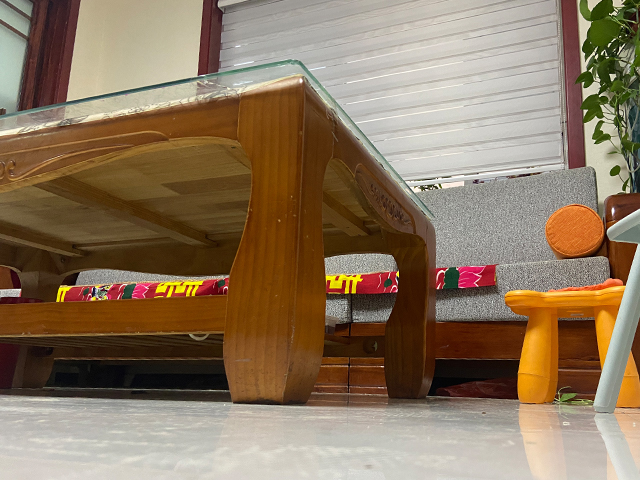sofa: (323, 166, 640, 400)
stool: (504, 285, 640, 410)
table: (1, 59, 438, 405)
